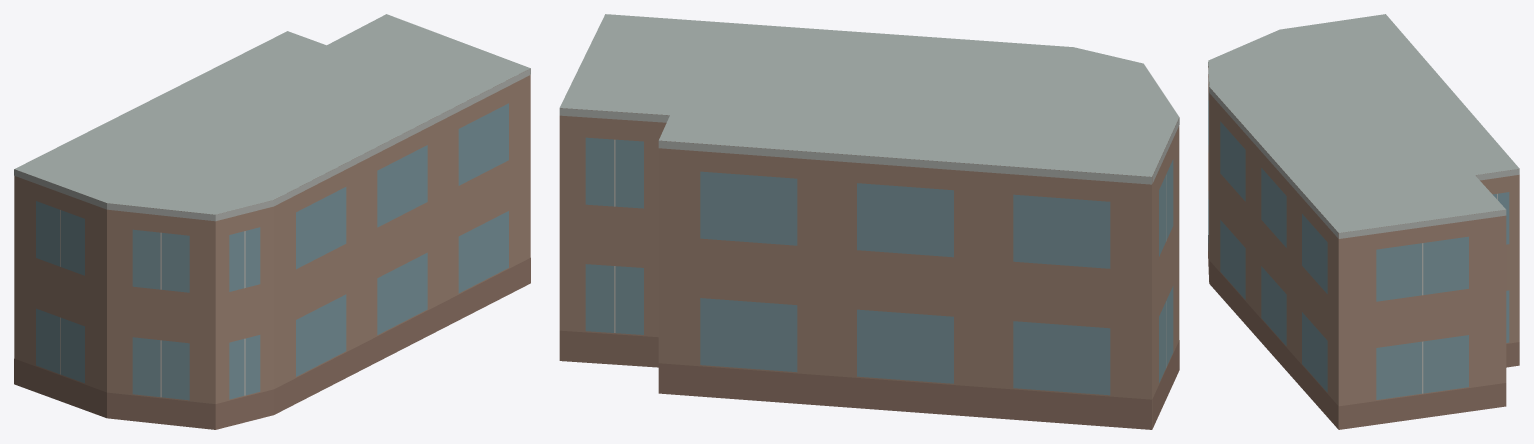
File: survey-upis-32513263.glb
3 renders of one model, left to right at view 1: azimuth 30°, elevation 25°; view 2: azimuth 150°, elevation 25°; view 3: azimuth 270°, elevation 25°, orthographic. The views are drawn at different scales.
Visible parts, largest first — view 1: survey-upis-32513263.tmp; view 2: survey-upis-32513263.tmp; view 3: survey-upis-32513263.tmp.
Boxes of the visible parts, left/top/right/bottom form: survey-upis-32513263.tmp: left=14, top=14, right=530, bottom=429; survey-upis-32513263.tmp: left=559, top=14, right=1179, bottom=429; survey-upis-32513263.tmp: left=1208, top=14, right=1519, bottom=429.
Size of the model in its own units: 19.11 by 8 by 11.49.
